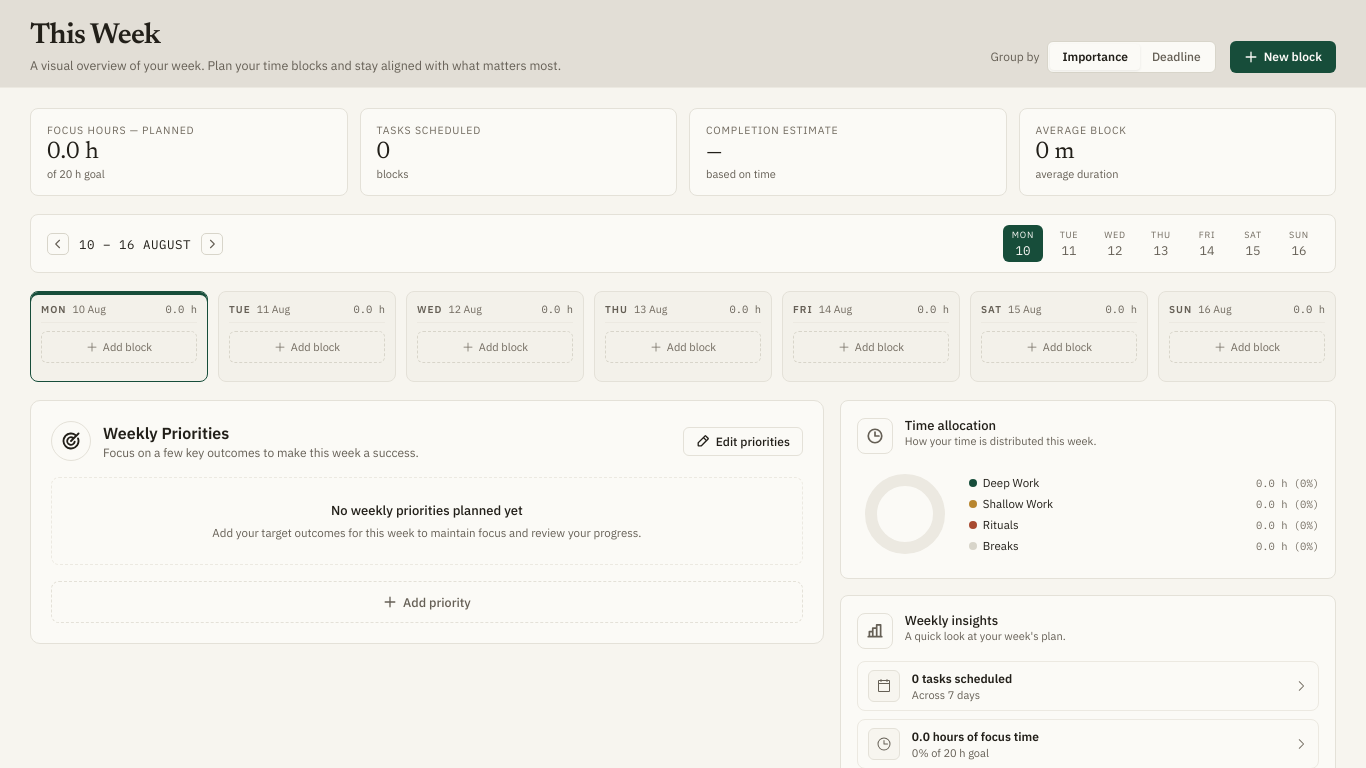
Test case: task planning release flows › WeekPlanView › allows adding a new weekly priority target
Click the button with aria-label "Add weekly priority". click: click(427, 602)
box: [51,581,803,623]
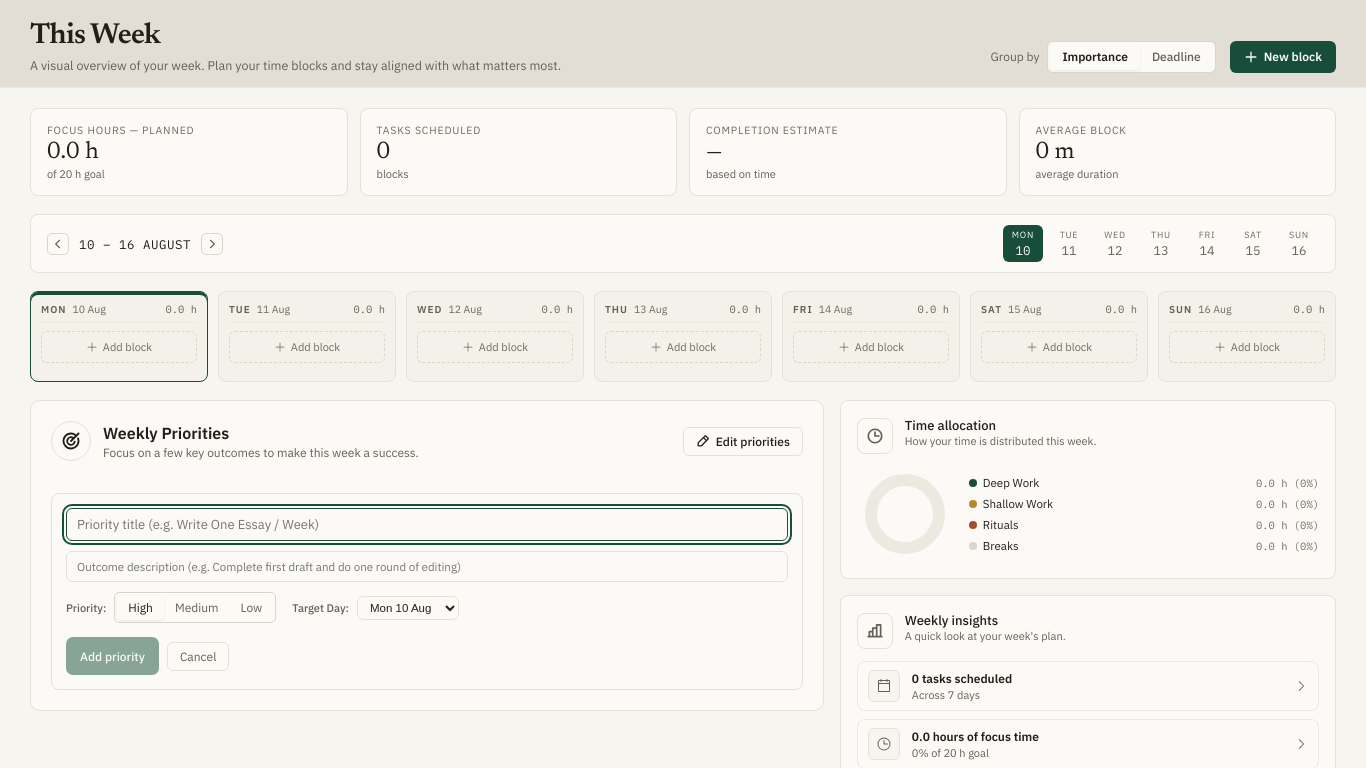
Type "Launch Product Update" into the field with placeholder "Priority title (e.g. Write One Essay / Week)". click: (427, 525)
box: [66,508,788,541]
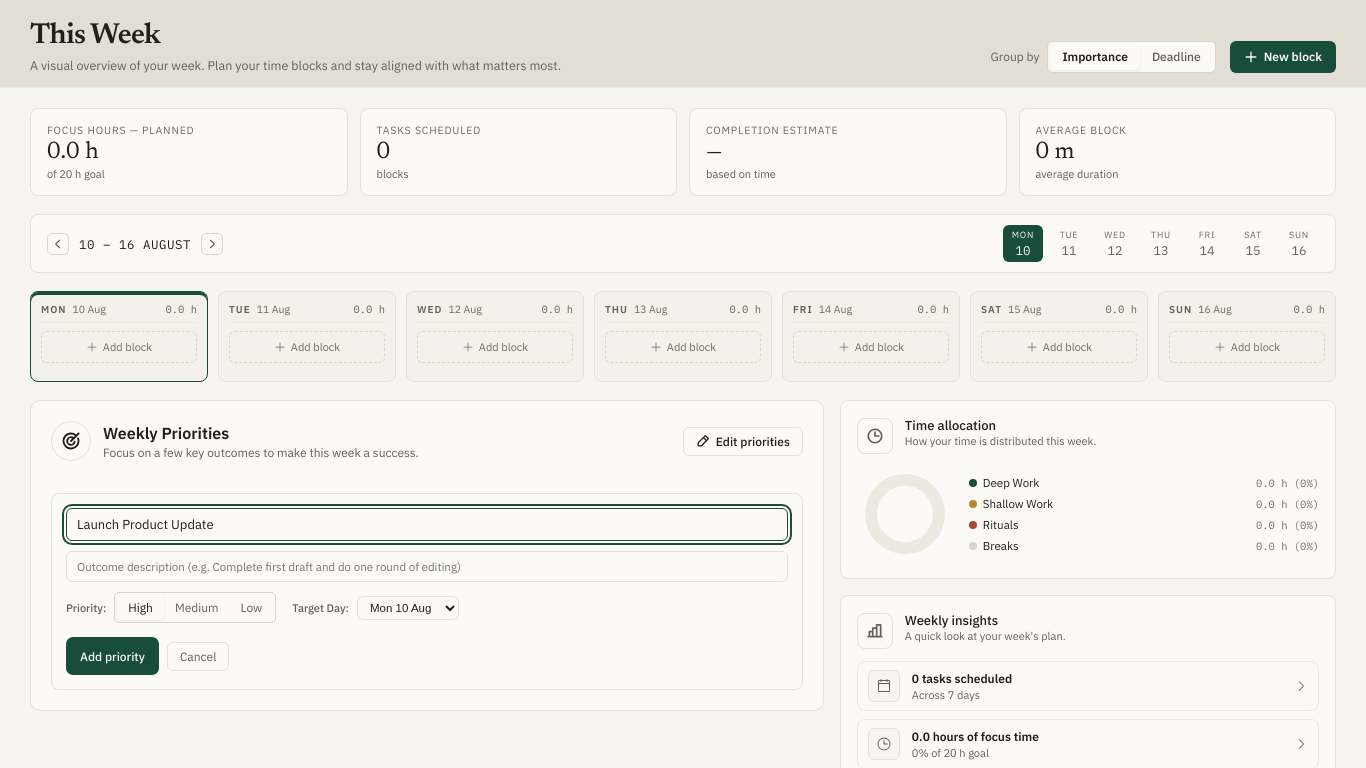
Replace the text in the field with placeholder "Outcome description (e.g. Complete first draft and do one round of editing)" with "Prepare update notes and share with team". click: (427, 567)
box: [66,551,788,582]
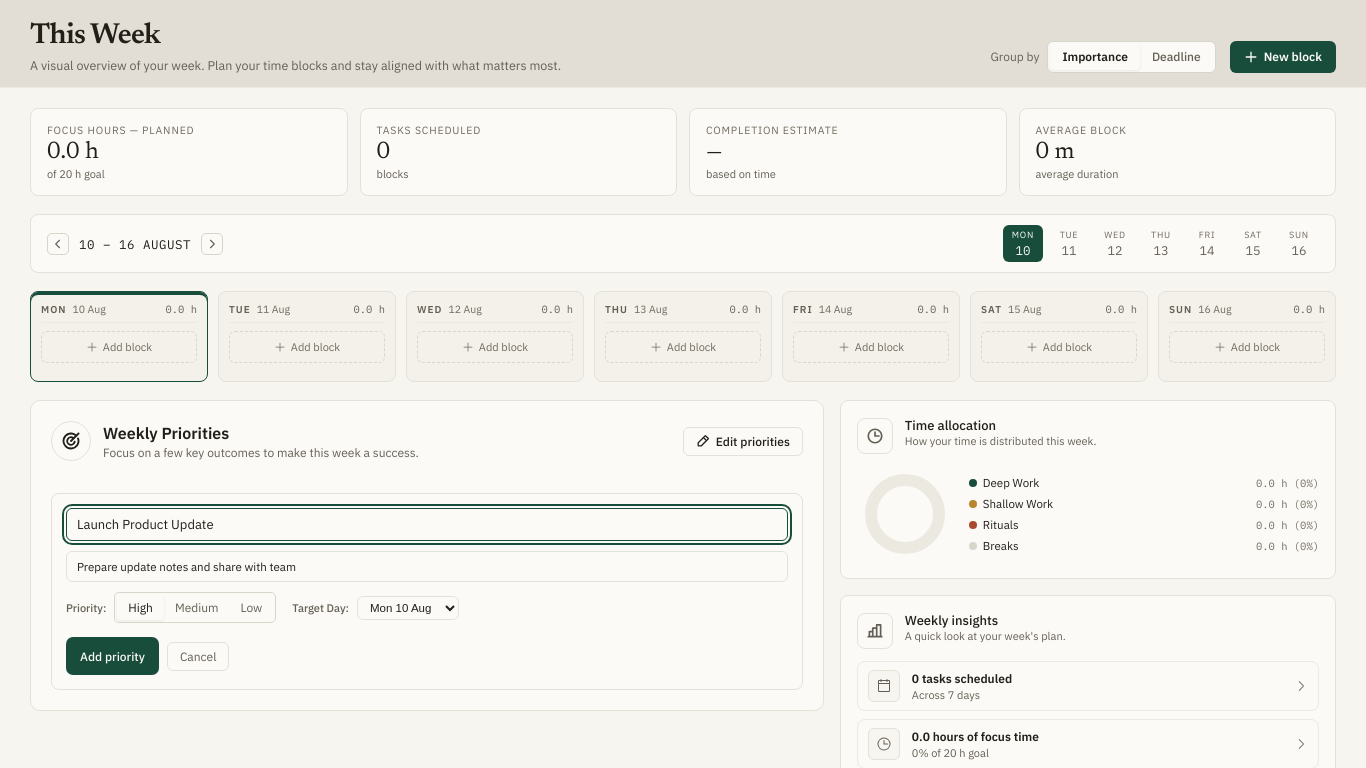
Click the button "Add priority". click: click(112, 656)
box: [66,637,159,675]
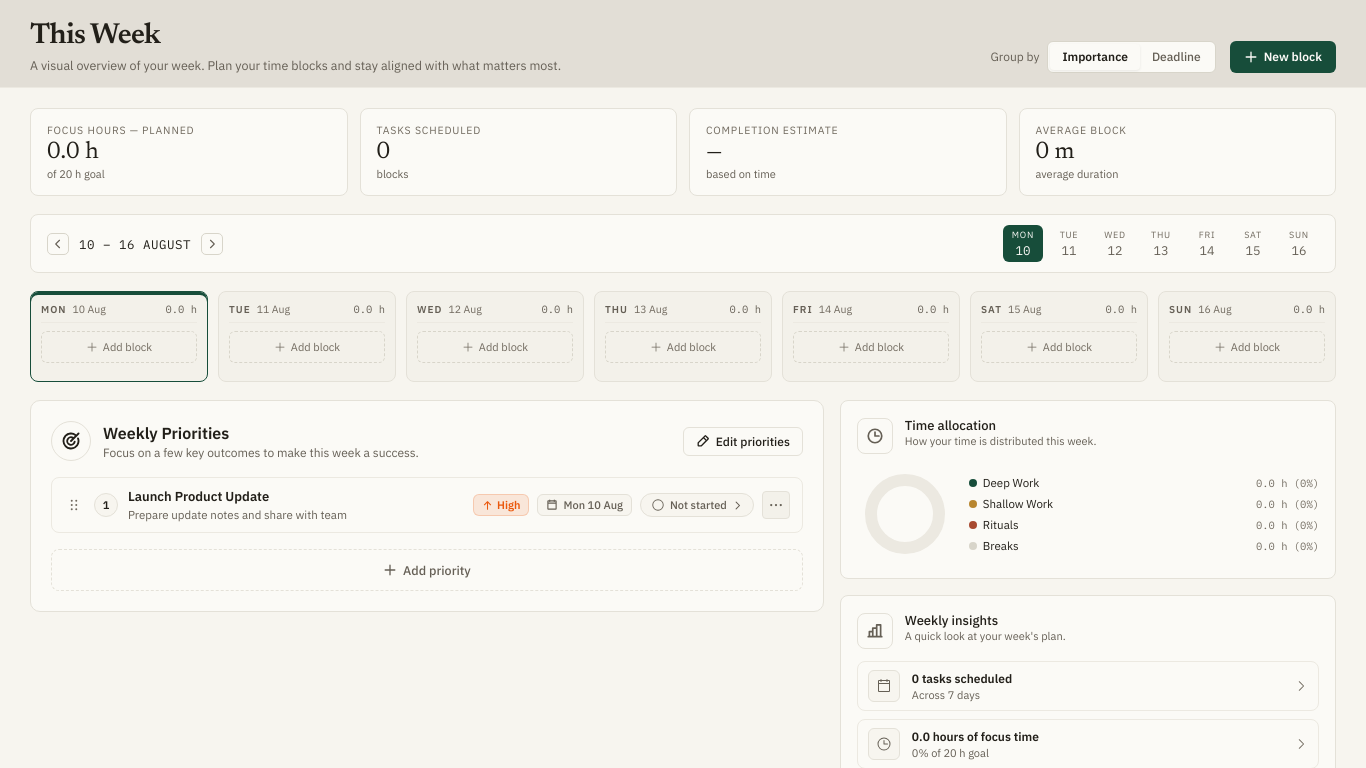
Result: the text "Launch Product Update" is shown at [128,488,269,505]
Result: the text "Prepare update notes and share with team" is shown at [128,507,347,522]
